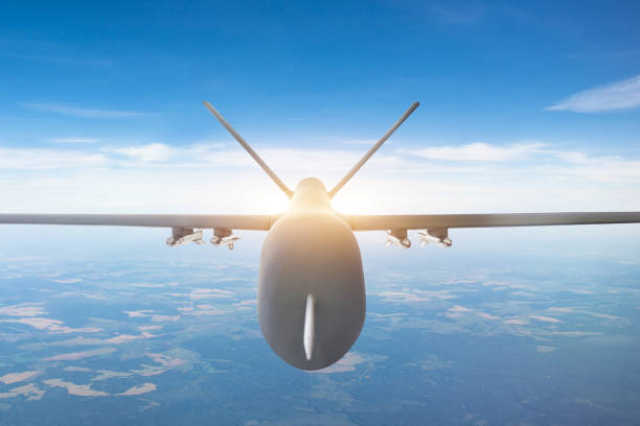military drone: (0, 100, 640, 371)
